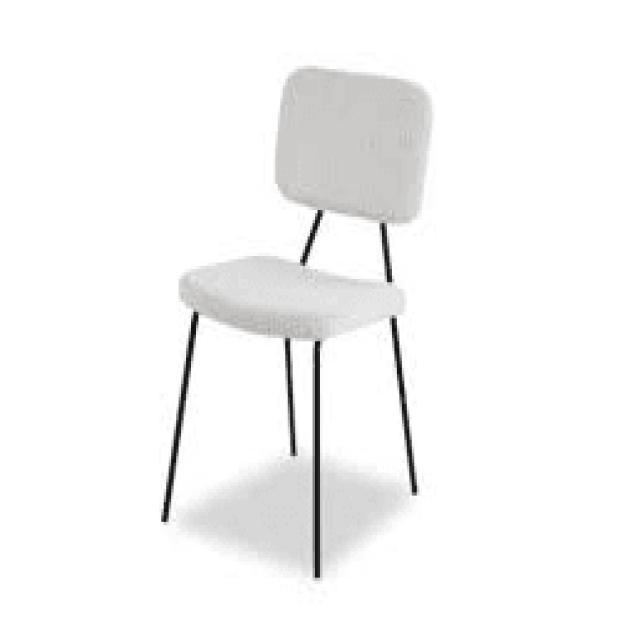chair: (160, 59, 438, 580), (188, 83, 426, 324)
